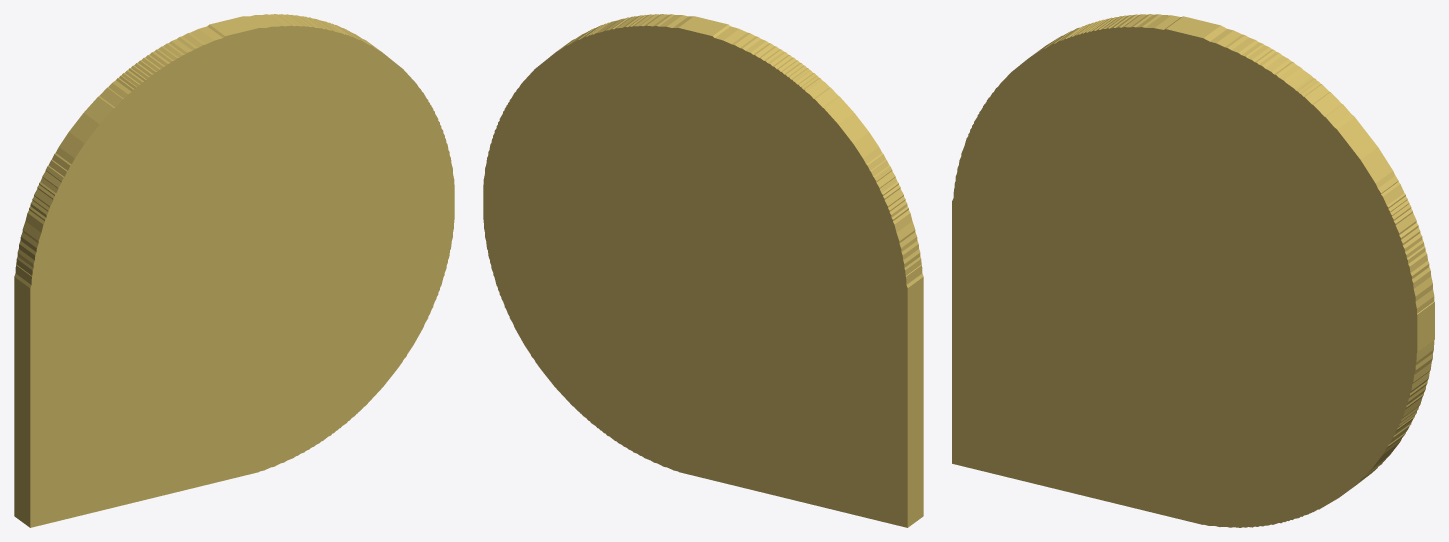
The model's file is bytecorp-drop.glb.
3 renders of one model, left to right at view 1: azimuth 30°, elevation 25°; view 2: azimuth 150°, elevation 25°; view 3: azimuth 330°, elevation 25°, orthographic. The views are drawn at different scales.
Visible parts, largest first — view 1: geometry_0; view 2: geometry_0; view 3: geometry_0.
Boxes of the visible parts, bbox=[...] form: geometry_0: bbox=[14, 14, 454, 527]; geometry_0: bbox=[483, 14, 923, 527]; geometry_0: bbox=[952, 14, 1434, 527].
Bounding box in the file's own units: 1.99 × 1.99 × 0.13.
